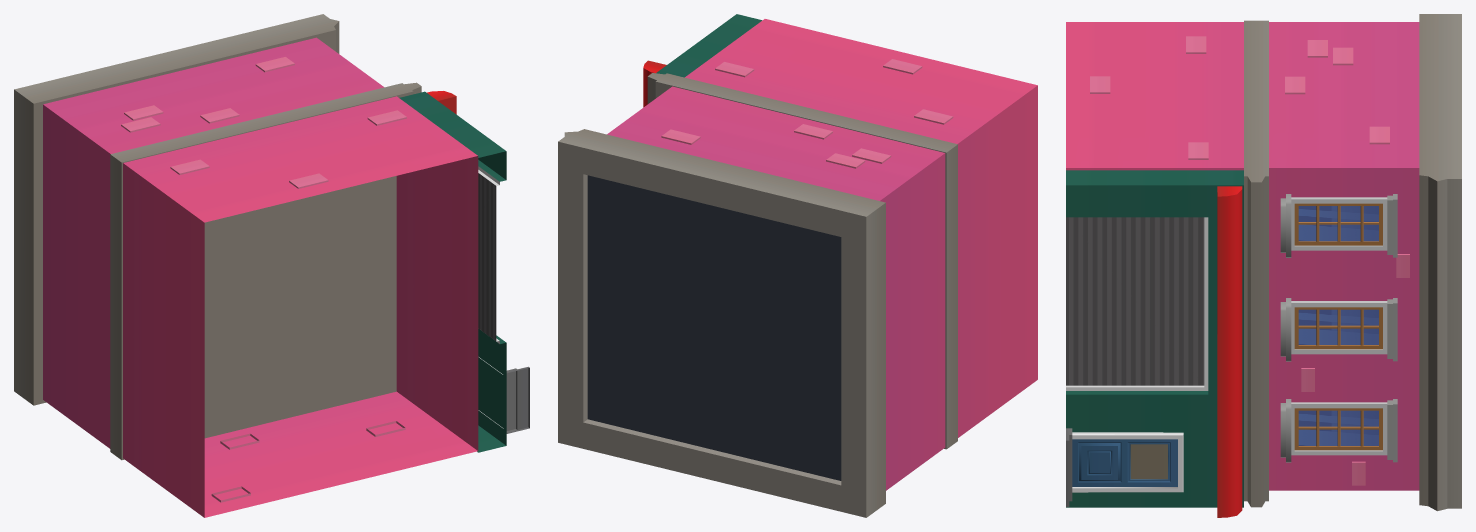
The model's file is Building_19_3_G.fbx.
3 views of the same model, side by side, from view 1: azimuth 30°, elevation 25°; view 2: azimuth 150°, elevation 25°; view 3: azimuth 270°, elevation 25° (orthographic). The views are drawn at different scales.
Parts seen in each view (by area): view 1: Building_19_3_G; view 2: Building_19_3_G; view 3: Building_19_3_G.
Boxes of the visible parts, x1,y1,x2,y2 form: Building_19_3_G: (14, 14, 529, 517); Building_19_3_G: (558, 14, 1037, 517); Building_19_3_G: (1066, 14, 1461, 517).
Size of the model in its own units: 774 by 667 by 726.
